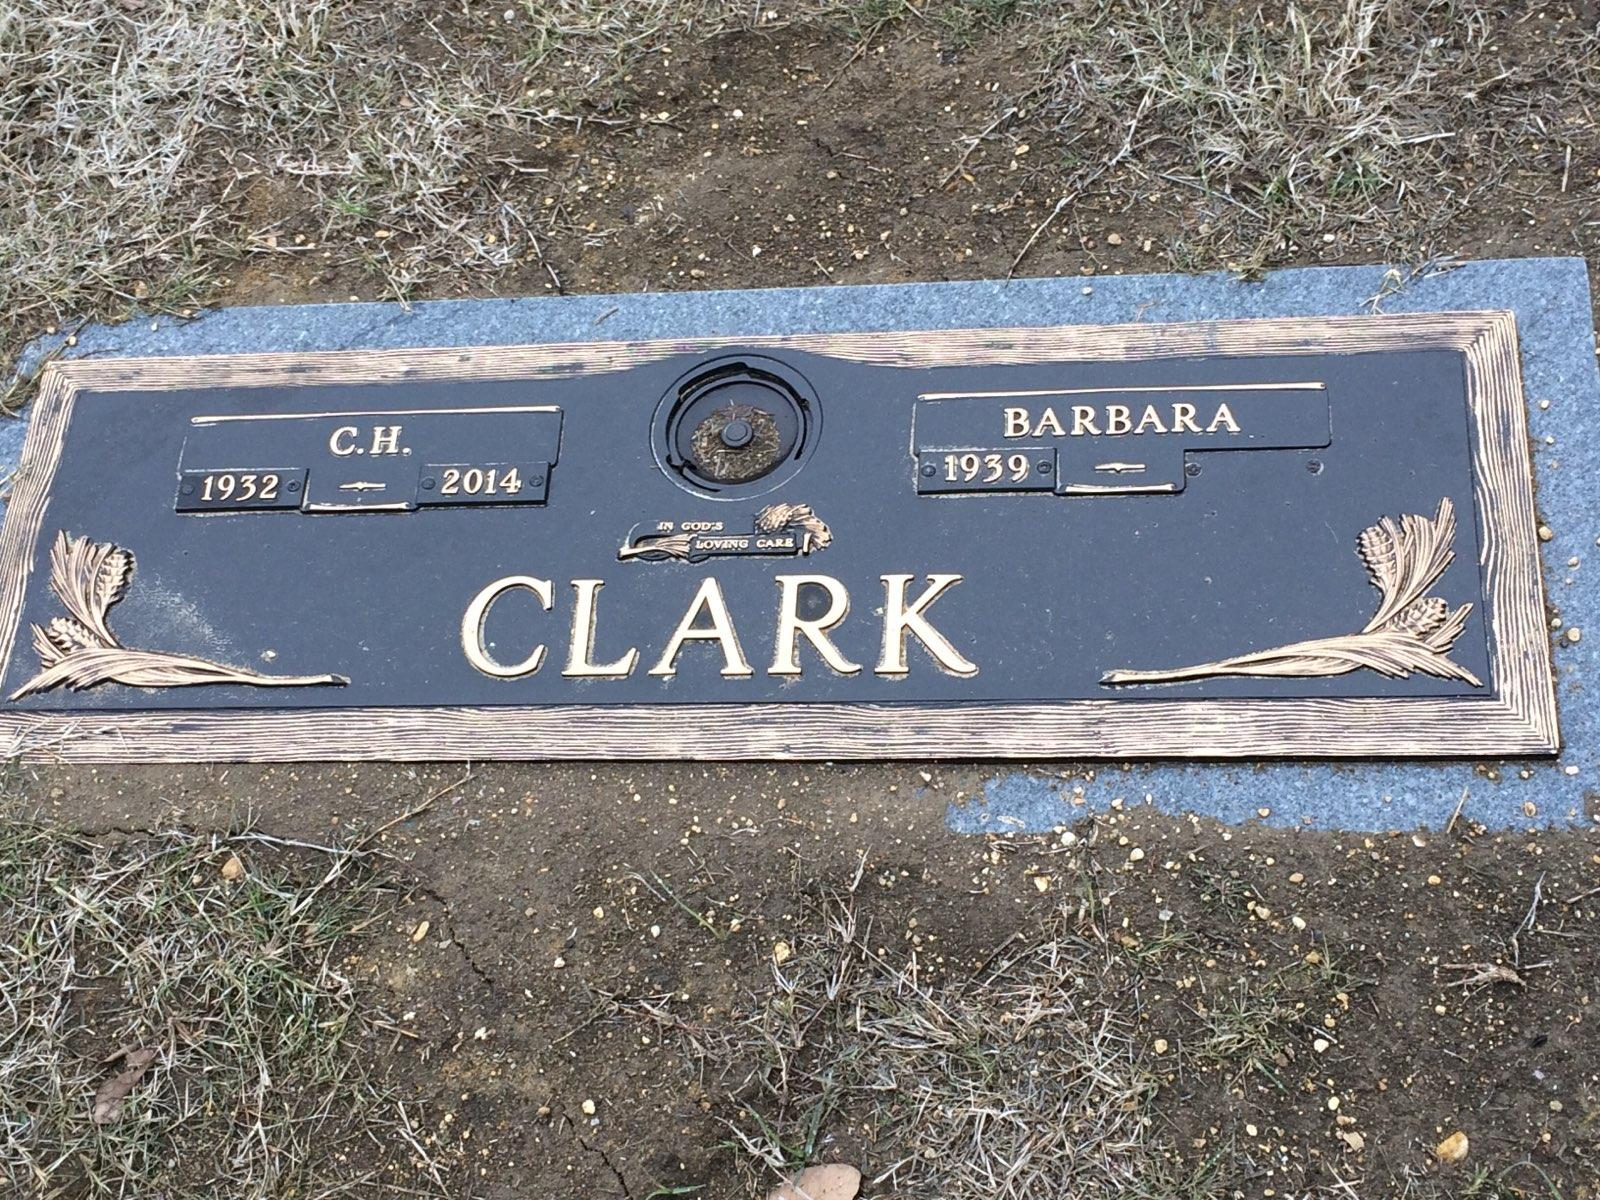flat: (4, 265, 1600, 838)
